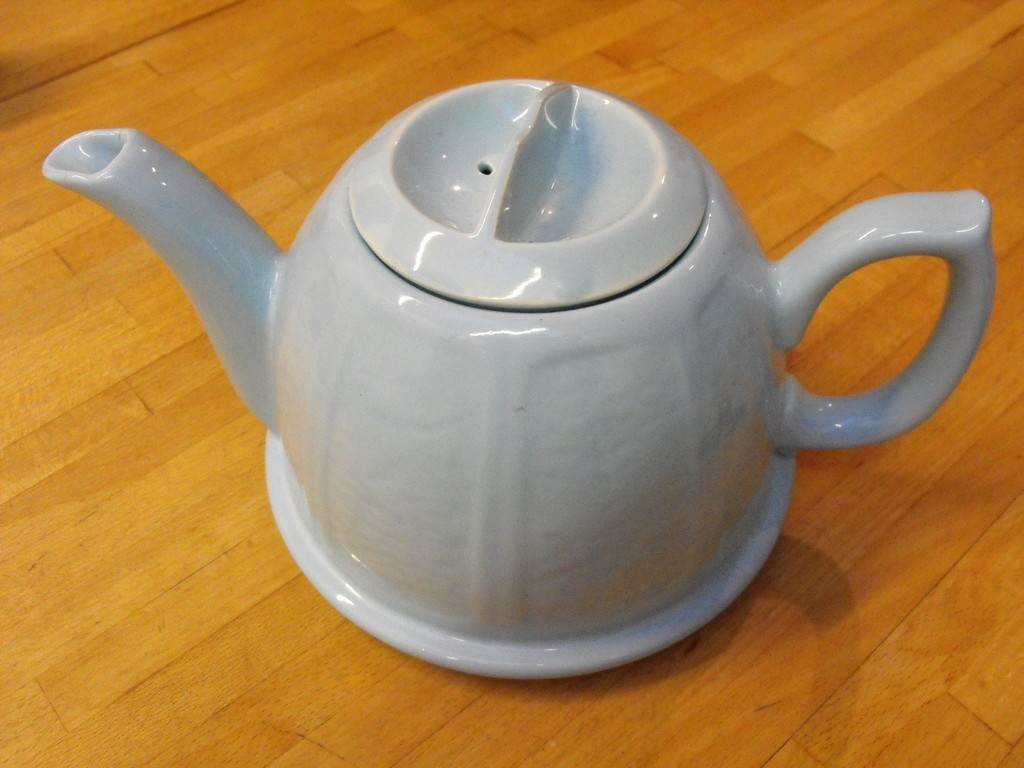teapot: (39, 76, 995, 686)
